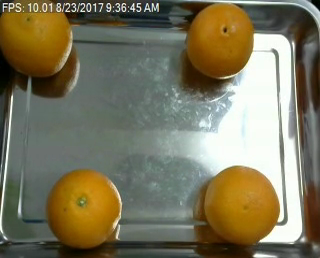Orange: (44, 168, 123, 250), (204, 165, 282, 244), (1, 1, 74, 78), (185, 1, 256, 80)
